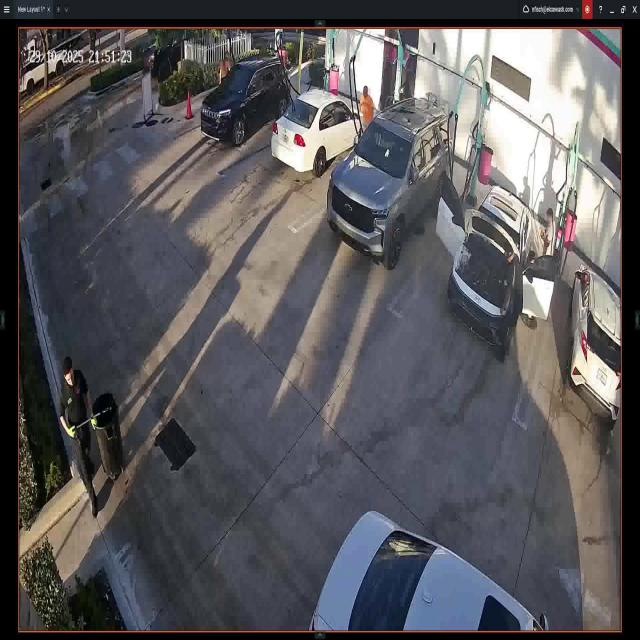Car: (309, 509, 552, 632), (440, 171, 556, 350), (328, 98, 450, 264), (272, 85, 368, 174), (200, 55, 288, 146), (572, 266, 620, 421), (139, 37, 184, 86)
